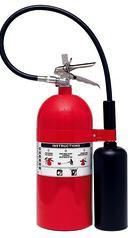Fire Extinguisher: (4, 4, 132, 232)
